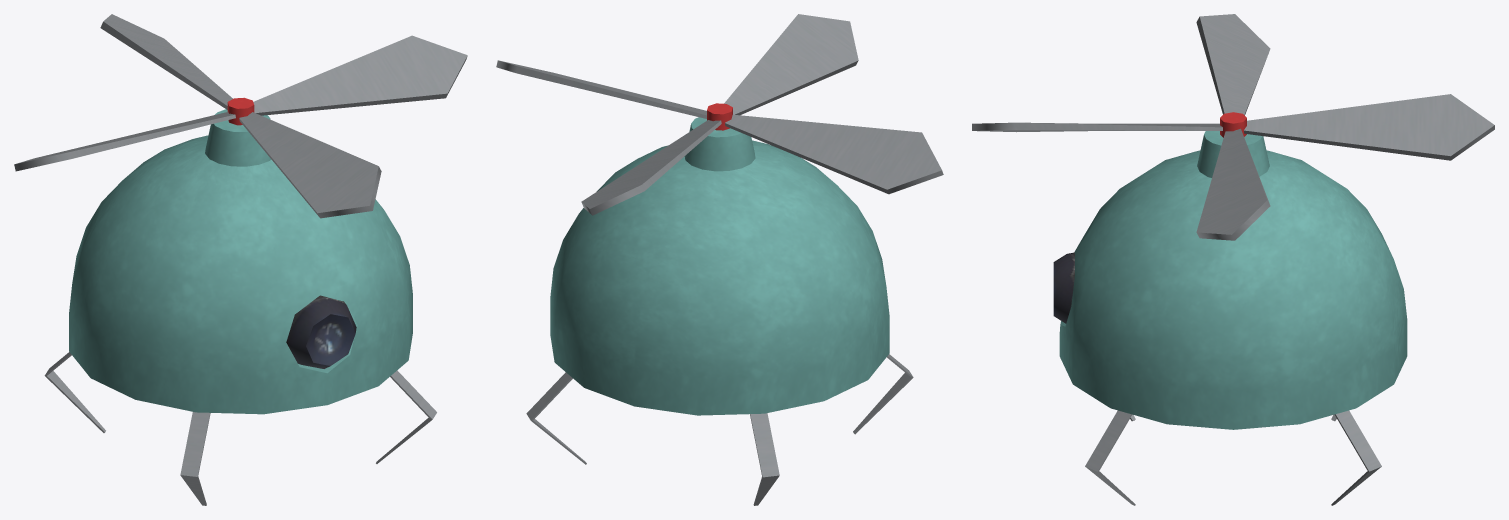
The model's file is m_enemy_sky_02.fbx.
3 renders of one model, left to right at view 1: azimuth 30°, elevation 25°; view 2: azimuth 150°, elevation 25°; view 3: azimuth 270°, elevation 25°, orthographic.
Parts seen in each view (by area): view 1: body, propeller; view 2: body, propeller; view 3: body, propeller.
Boxes of the visible parts, x1,y1,x2,y2 form: body: (44,109,436,505); propeller: (14,14,467,218); body: (526,117,913,505); propeller: (496,14,943,215); body: (1053,131,1407,505); propeller: (972,14,1494,240).
Bounding box in the file's own units: 113 × 84.44 × 113.
1 material, 1 textured.
